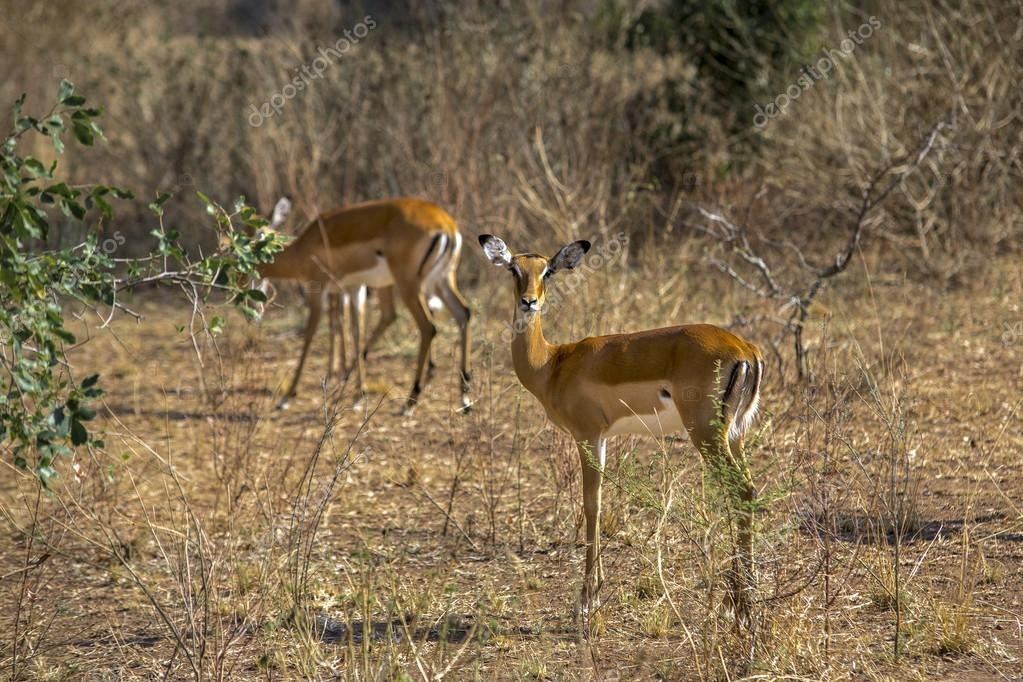impala: (474, 226, 778, 629), (216, 193, 485, 421)
